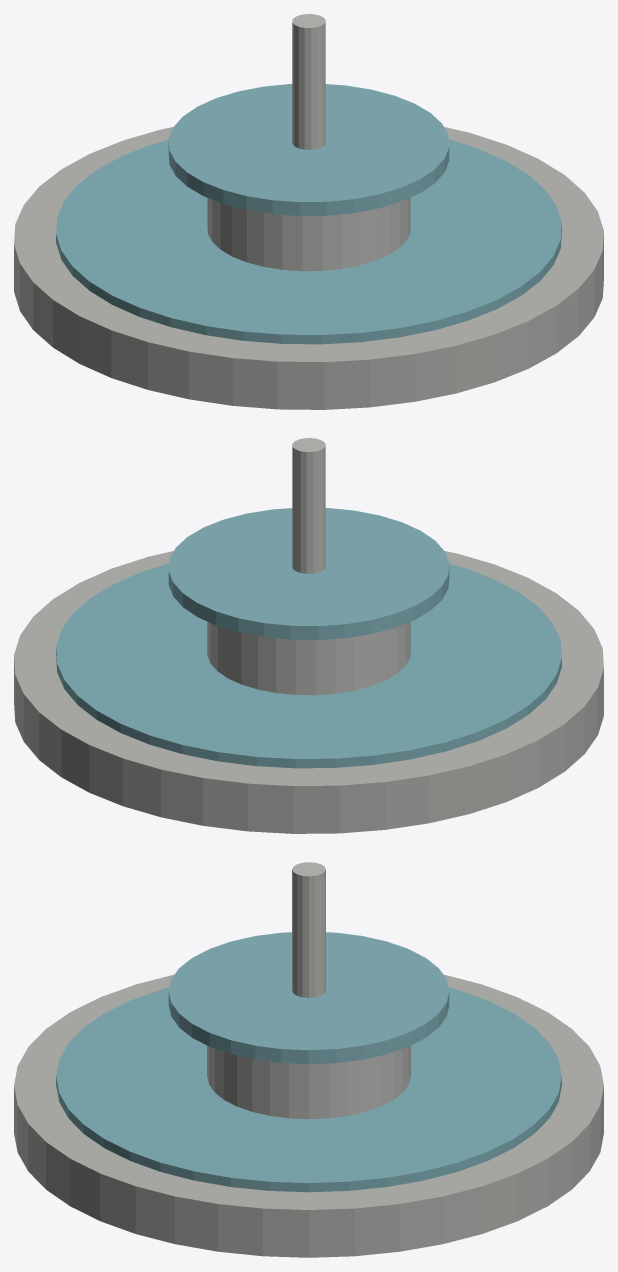
Rendered from plaza_fountain.glb.
3 renders of one model, top to bottom at view 1: azimuth 30°, elevation 25°; view 2: azimuth 150°, elevation 25°; view 3: azimuth 270°, elevation 25°, orthographic.
Visible parts, largest first — view 1: m1, m0, m3, m2, m4; view 2: m1, m0, m3, m2, m4; view 3: m1, m0, m3, m2, m4.
Boxes of the visible parts, box(x1,y1,x2,y2) form: m1: box(56, 139, 561, 344); m0: box(14, 127, 603, 409); m3: box(168, 84, 449, 216); m2: box(207, 197, 410, 271); m4: box(292, 14, 325, 149); m1: box(56, 563, 561, 768); m0: box(14, 551, 603, 833); m3: box(168, 508, 449, 640); m2: box(207, 621, 410, 695); m4: box(292, 438, 325, 573); m1: box(56, 987, 561, 1192); m0: box(14, 974, 603, 1257); m3: box(168, 932, 449, 1064); m2: box(207, 1045, 410, 1119); m4: box(292, 862, 325, 997).
Size of the model in its own units: 8.4 by 4.15 by 8.4.
